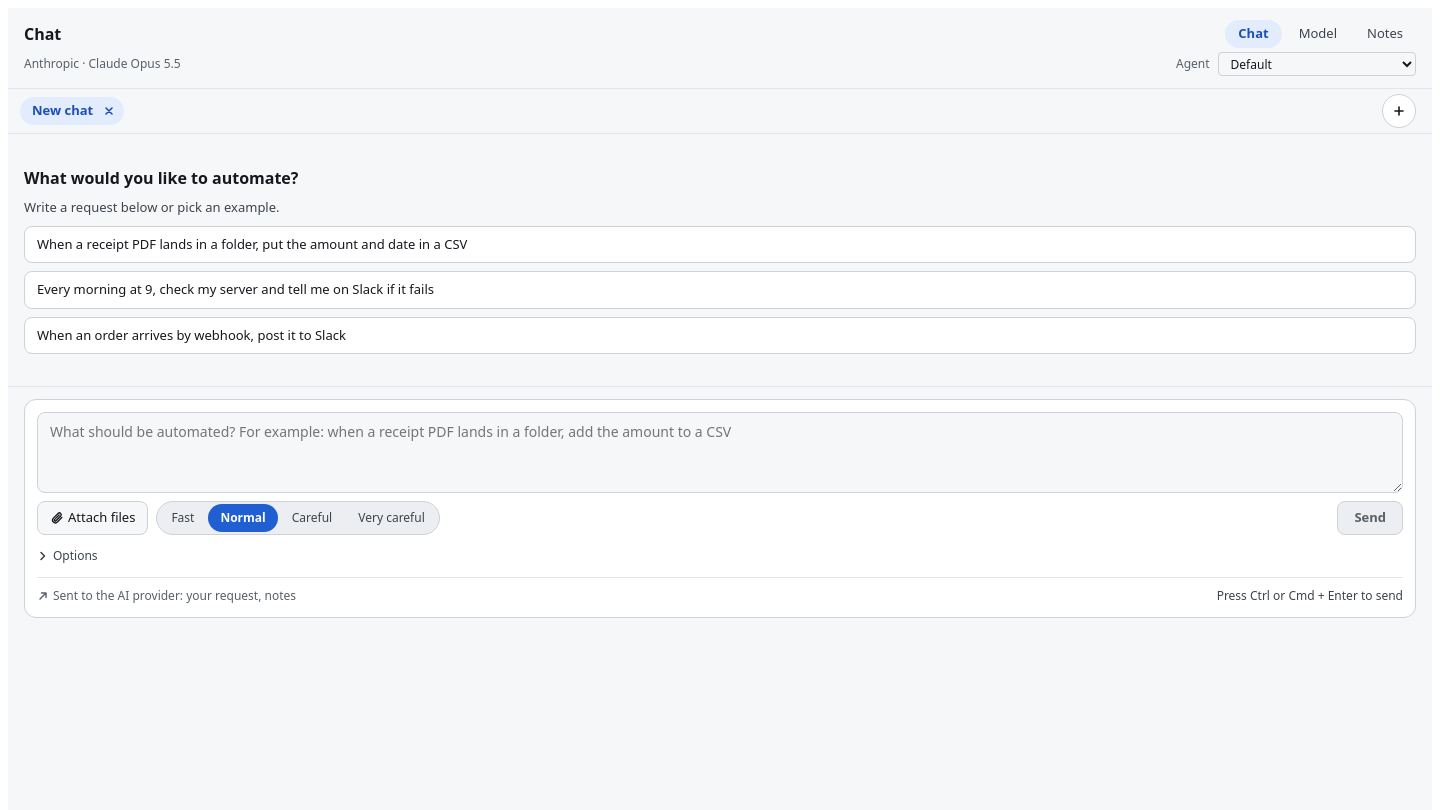
Test: errors from setActiveAgent › show the fixed text of the code and can be dismissed
Check: the button "Anthropic · Claude Opus 5.5" is shown, box x1=24 y1=55 x2=1164 y2=73
Select "Terse reviewer" in the dropdown labelled "Agent". click: (1317, 64)
box: x1=1218 y1=52 x2=1416 y2=76
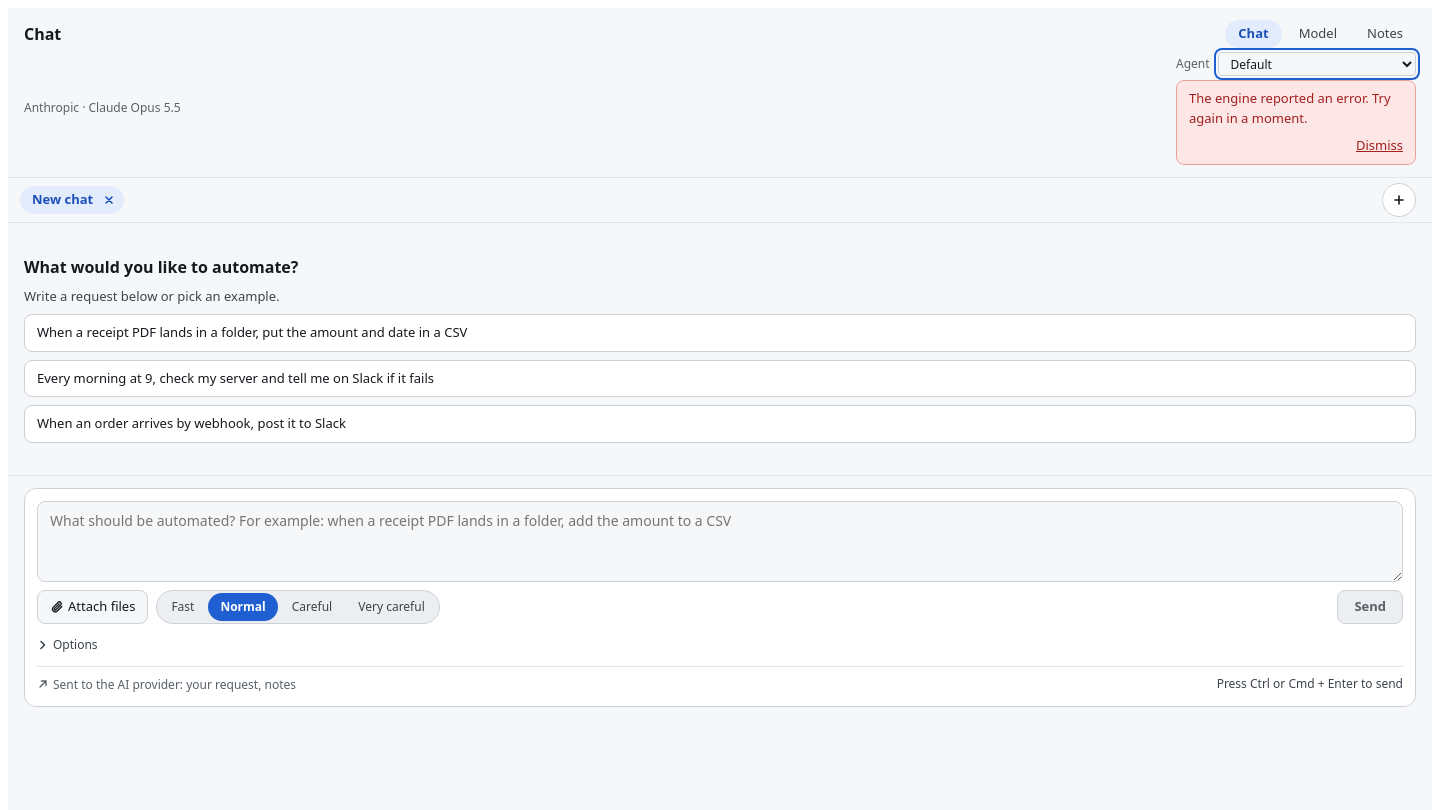
Click the button "Dismiss". click: (1380, 146)
box: x1=1356 y1=136 x2=1403 y2=156
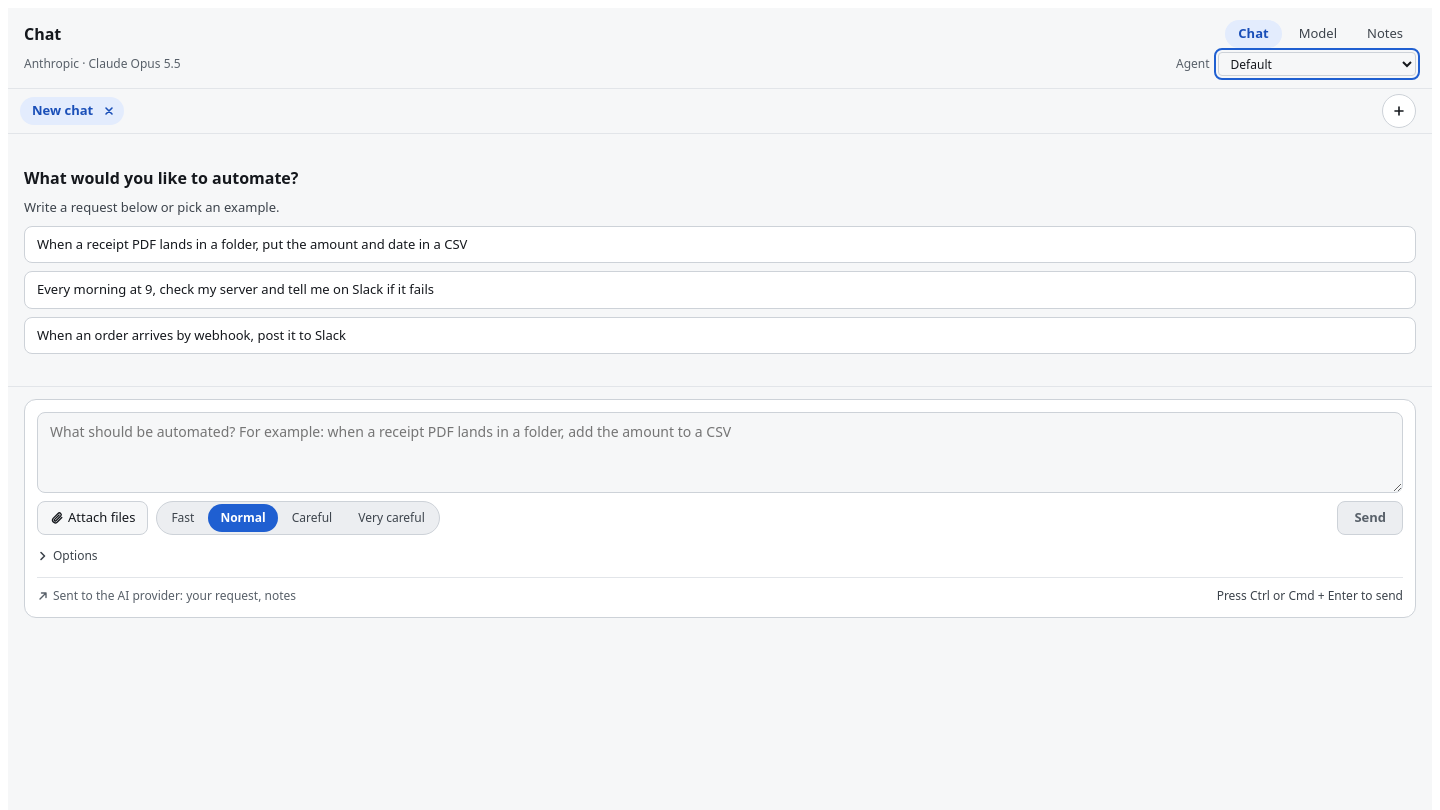
Check: the text "The engine reported an error. Try again in a moment." is gone
